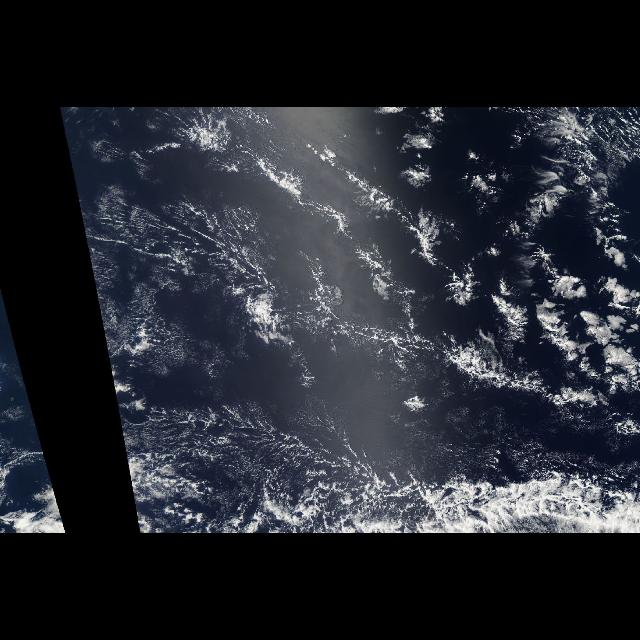Fish: (205, 455, 640, 533)
Flower: (404, 192, 640, 394)
Sugar: (124, 284, 372, 532)
